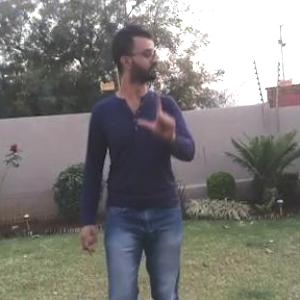land_hand: (136, 81, 180, 144)
